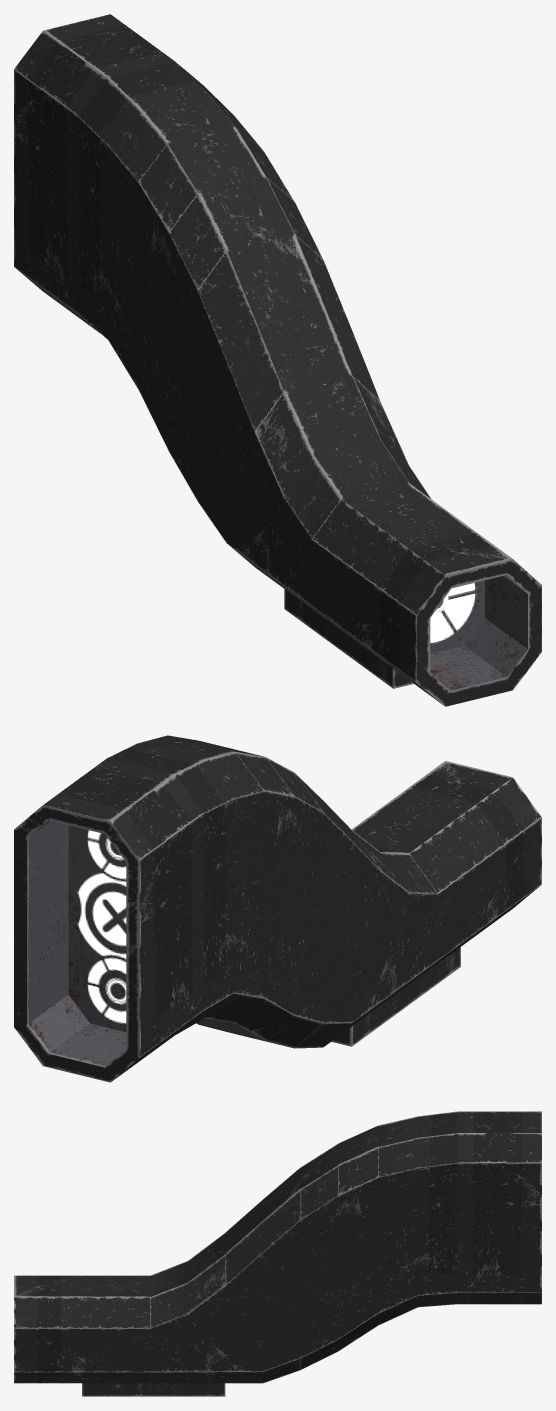
The model's file is thruster_l_1.fbx.
3 renders of one model, top to bottom at view 1: azimuth 30°, elevation 25°; view 2: azimuth 150°, elevation 25°; view 3: azimuth 270°, elevation 25°, orthographic. The views are drawn at different scales.
Parts seen in each view (by area): view 1: thruster_l_1; view 2: thruster_l_1; view 3: thruster_l_1.
Part boxes in pixels (bbox=[...]): thruster_l_1: bbox=[14, 14, 541, 706]; thruster_l_1: bbox=[14, 735, 541, 1082]; thruster_l_1: bbox=[14, 1111, 541, 1396].
Size of the model in its own units: 6.53 by 19.98 by 36.27.
